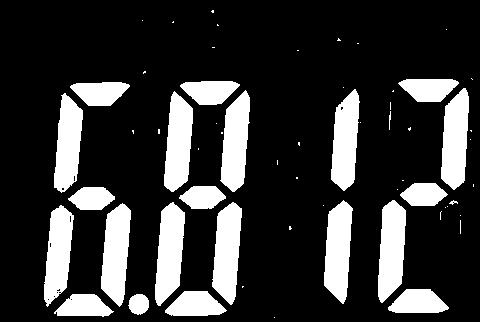1: (323, 88, 358, 307)
2: (376, 75, 472, 313)
6: (41, 77, 134, 316)
8: (153, 79, 250, 315)
dot: (127, 291, 151, 316)
